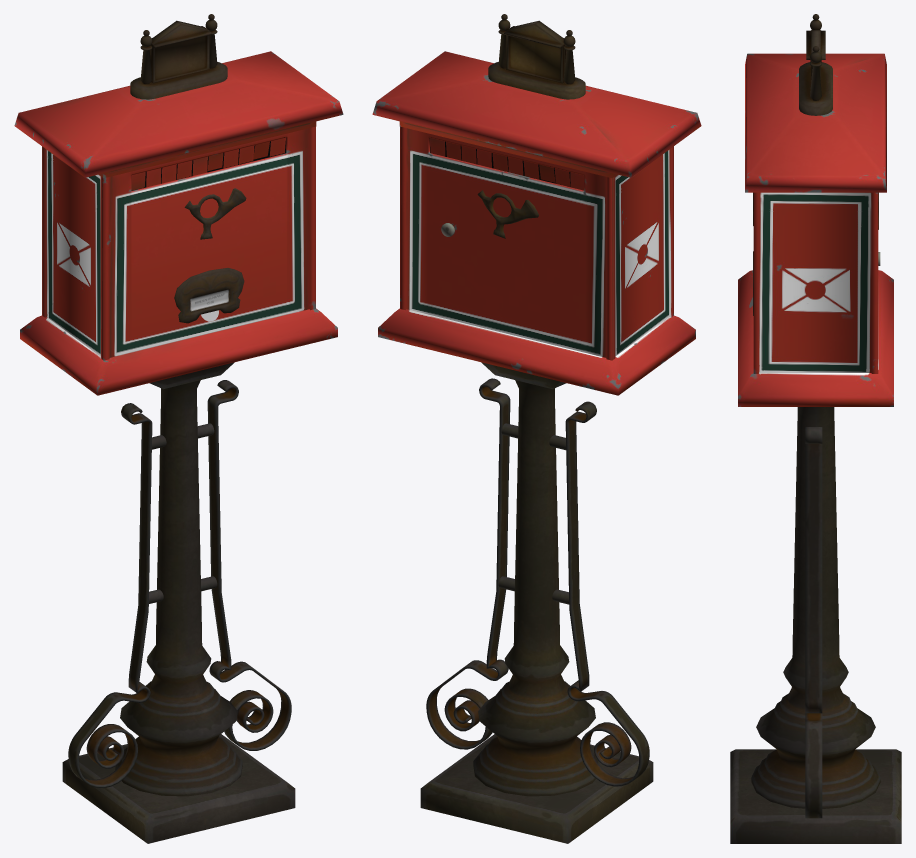
Rendered from FIG0110006.FBX.
The picture shows the model from 3 angles, left to right: view 1: azimuth 30°, elevation 25°; view 2: azimuth 150°, elevation 25°; view 3: azimuth 270°, elevation 25°; orthographic projection.
Visible parts, largest first — view 1: smFIG0110006; view 2: smFIG0110006; view 3: smFIG0110006.
Boxes of the visible parts, x1,y1,x2,y2 form: smFIG0110006: (14,14,343,843); smFIG0110006: (372,14,701,843); smFIG0110006: (730,14,901,843).
Size of the model in its own units: 0.4925 by 1.41 by 0.2809.
1 material, 1 textured.
